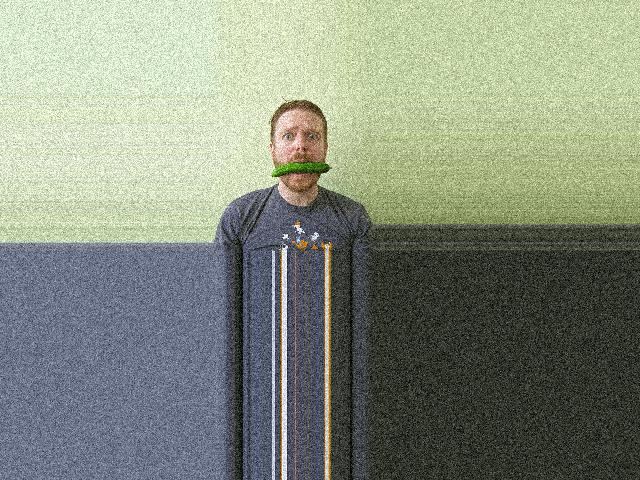cucumber: (270, 162, 331, 177)
